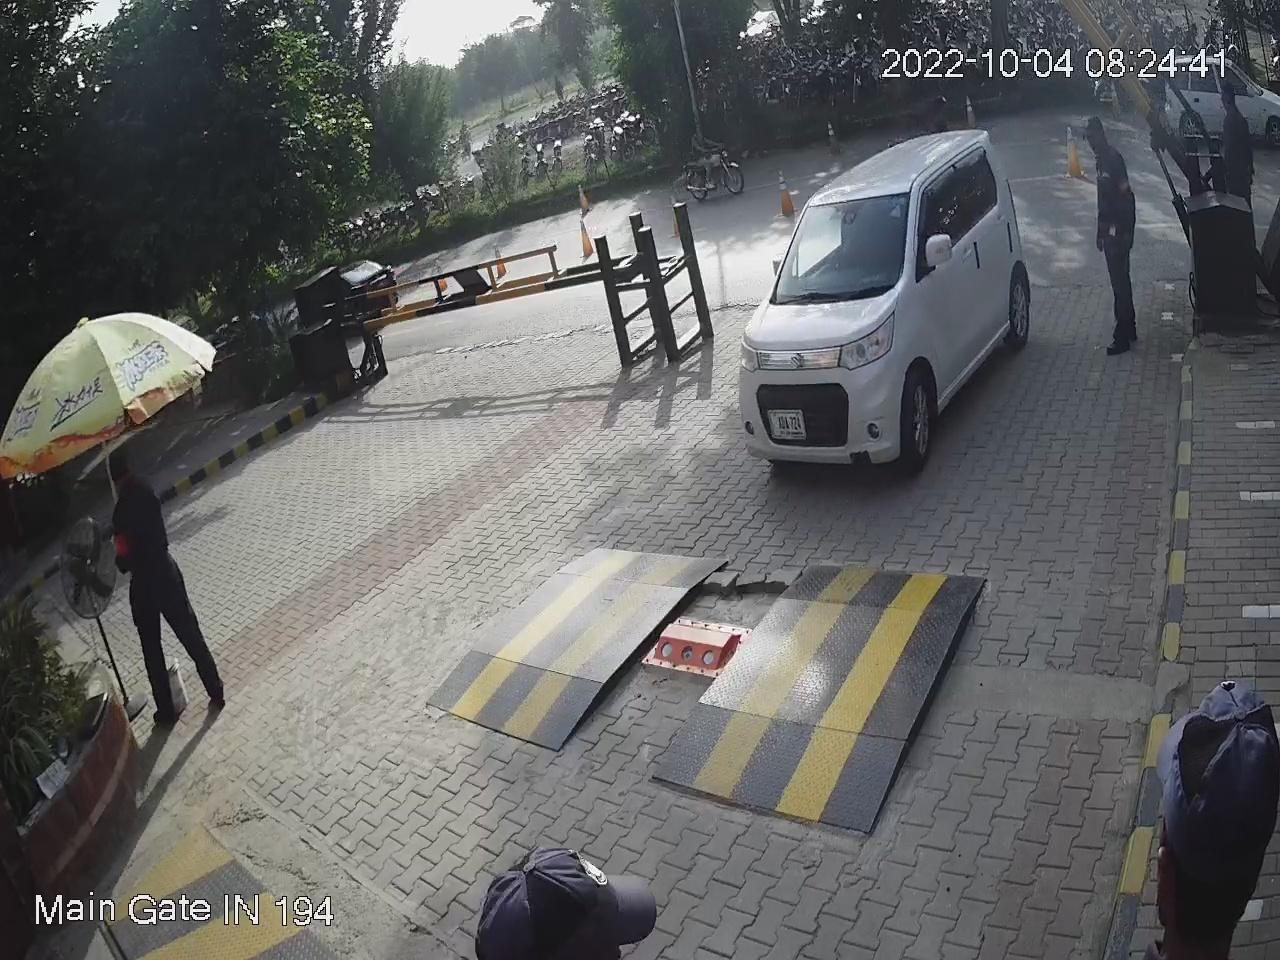windshield: (773, 190, 915, 301)
